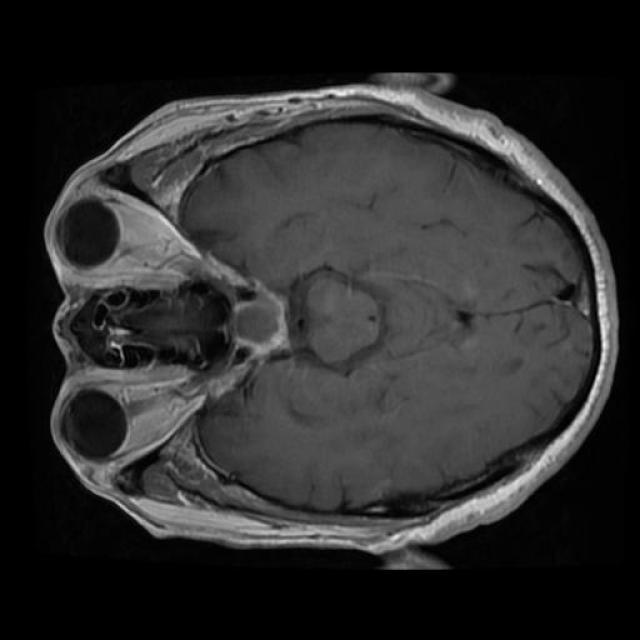Pituitary: (235, 290, 285, 355)
